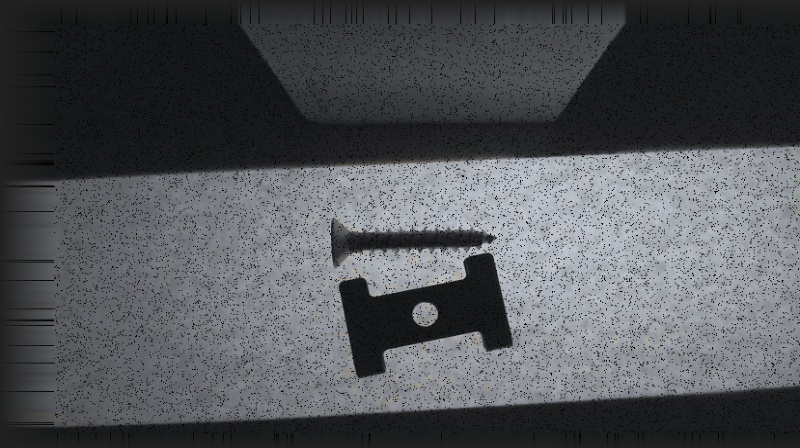O002: (335, 252, 514, 377)
S001: (327, 217, 498, 270)
